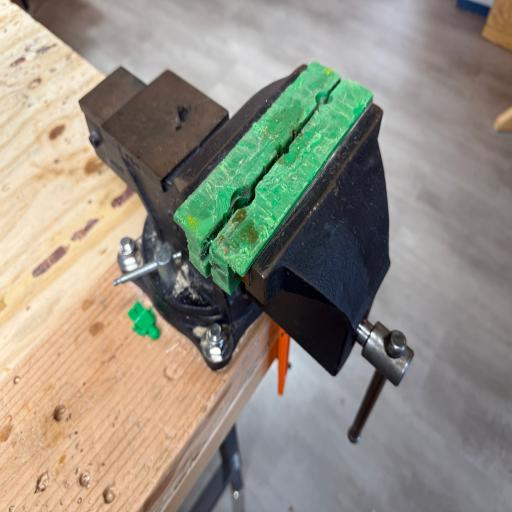Lego-Dude: (128, 302, 159, 339)
